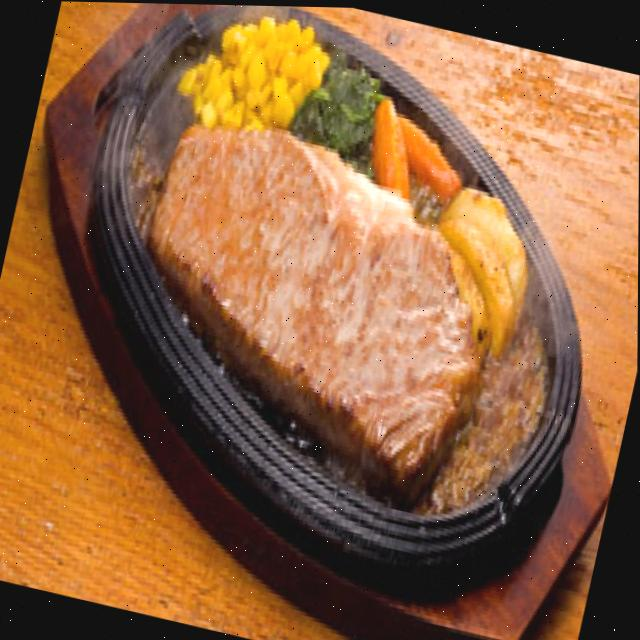牛肉菜式: (103, 93, 531, 529)
